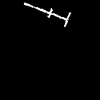double_crochet: (24, 3, 70, 26)
